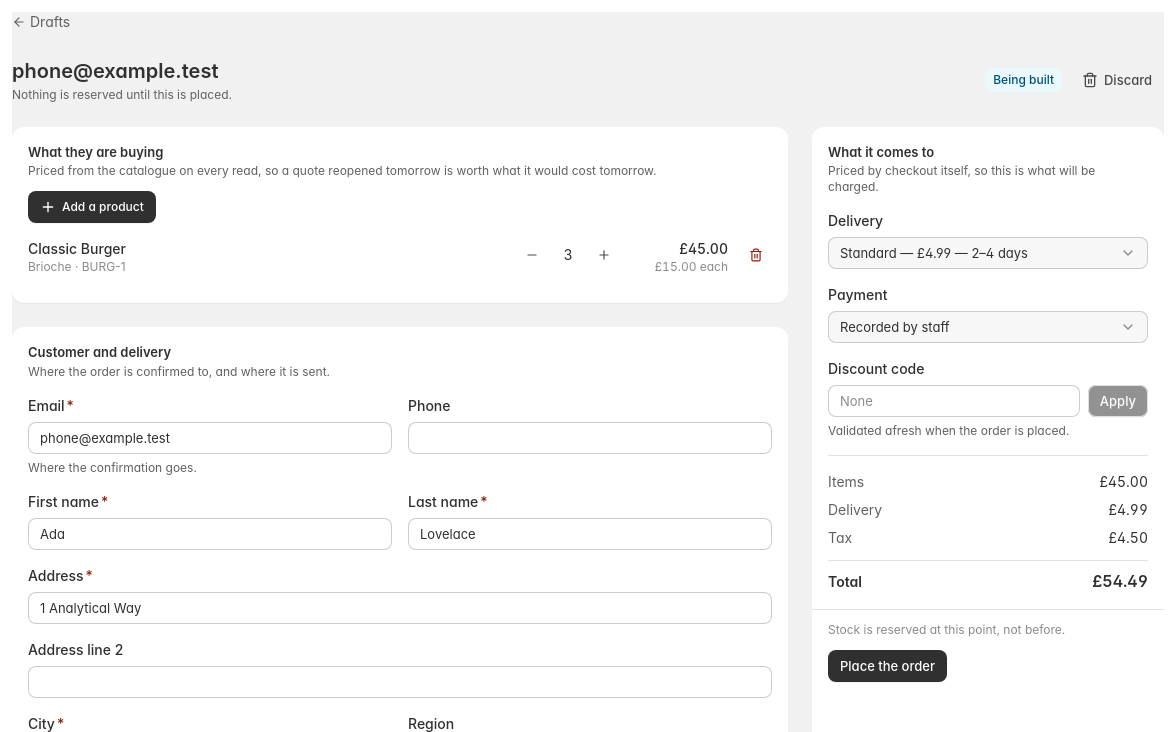
DraftBuilderPage › reports the server’s refusal rather than a generic failure
Click the button "Place the order" at (888, 666), box [828,650,947,682]
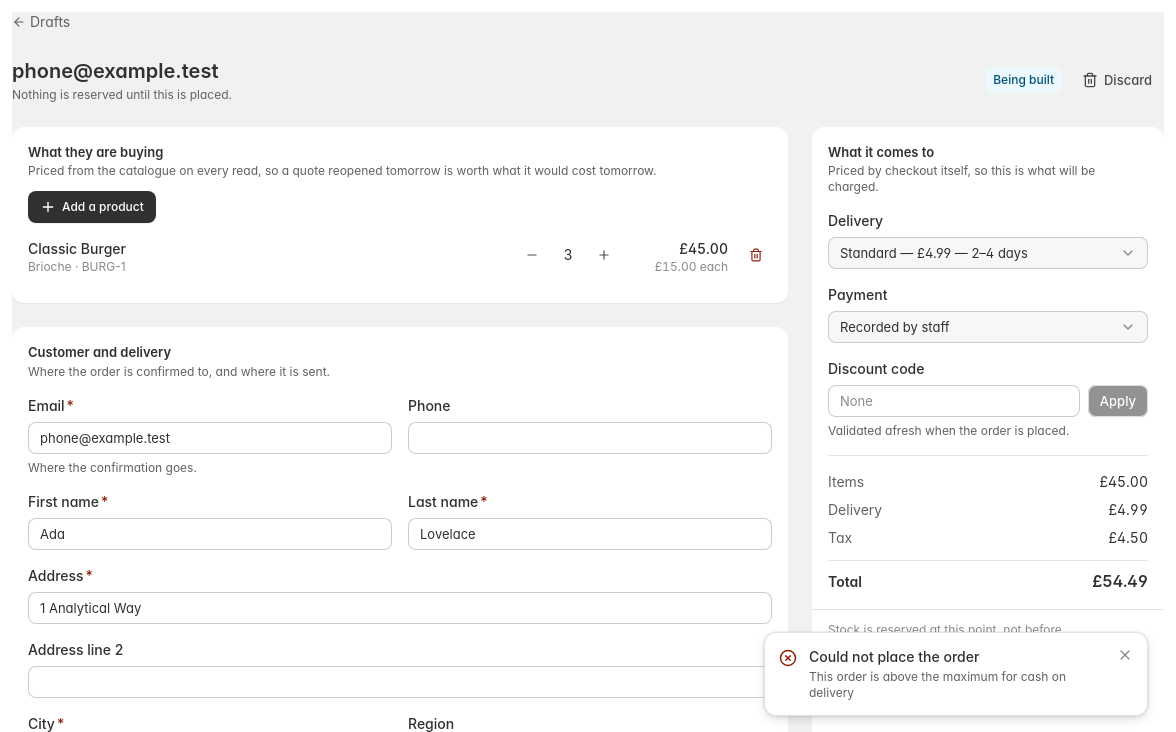
Expected: the text "This order is above the maximum for cash on delivery" is shown, [809,669,1105,701]
